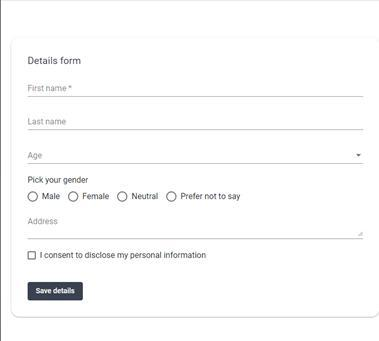button: (27, 281, 86, 303)
checkbox: (28, 251, 38, 262)
label: (39, 249, 211, 266), (182, 193, 242, 204), (130, 193, 161, 203), (83, 192, 111, 201), (41, 193, 62, 201)
radio: (166, 191, 179, 204), (68, 192, 81, 204), (117, 191, 129, 204), (28, 192, 40, 204)
